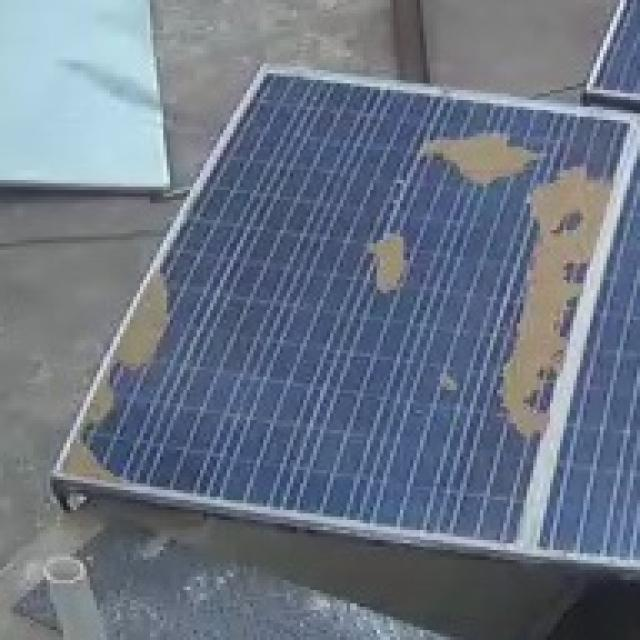Anomaly Solar Panel: (59, 70, 635, 550)
Surface Contaminant: (504, 275, 551, 440), (410, 132, 542, 186), (528, 189, 596, 273), (366, 232, 413, 302), (140, 286, 164, 351), (556, 162, 607, 187), (553, 276, 573, 330), (69, 454, 108, 473), (126, 327, 142, 363), (96, 391, 108, 421)
